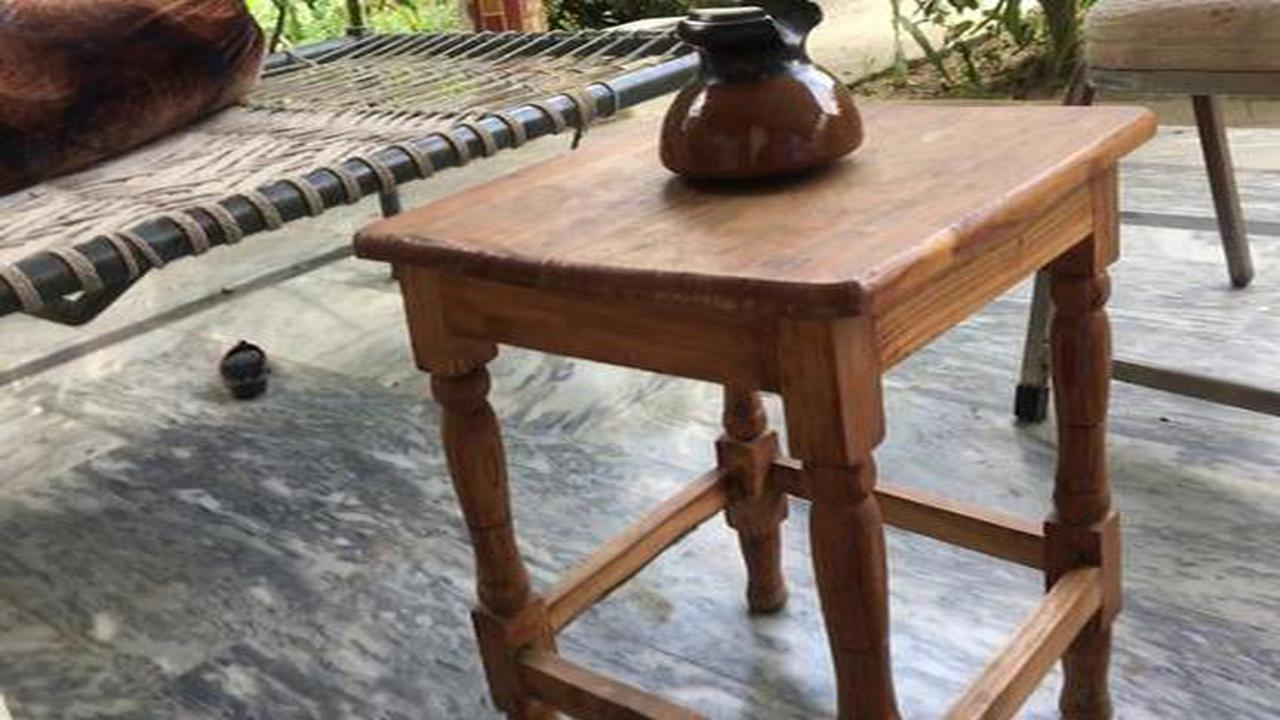insulator_pin: (631, 1, 896, 198)
